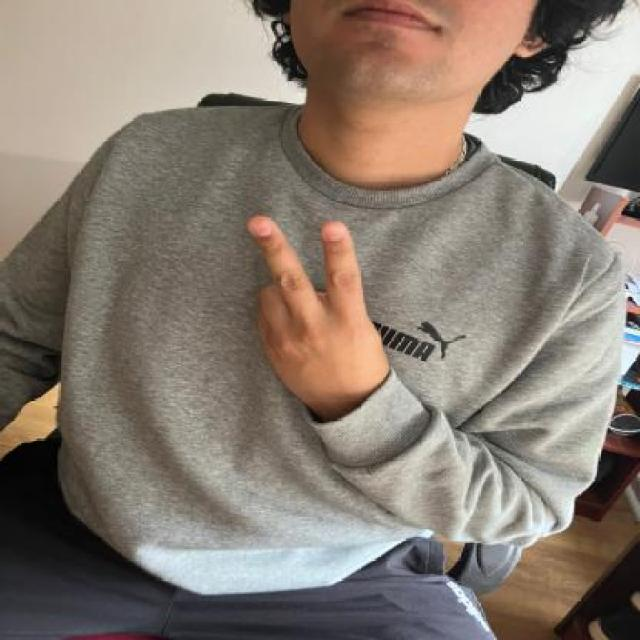V: (235, 206, 396, 409)
